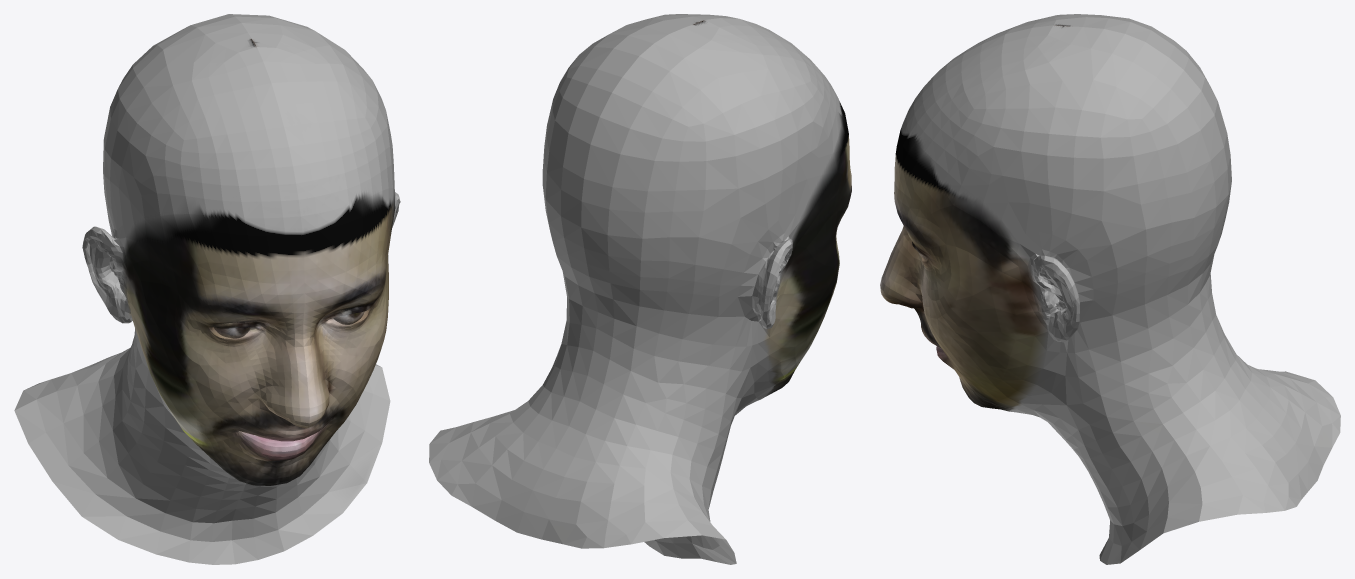
Rendered from ezgif-frame-076.obj.
3 views of the same model, side by side, from view 1: azimuth 30°, elevation 25°; view 2: azimuth 150°, elevation 25°; view 3: azimuth 270°, elevation 25° (orthographic). The views are drawn at different scales.
Size of the model in its own units: 0.2078 by 0.3296 by 0.2667.
1 material, 1 textured.
